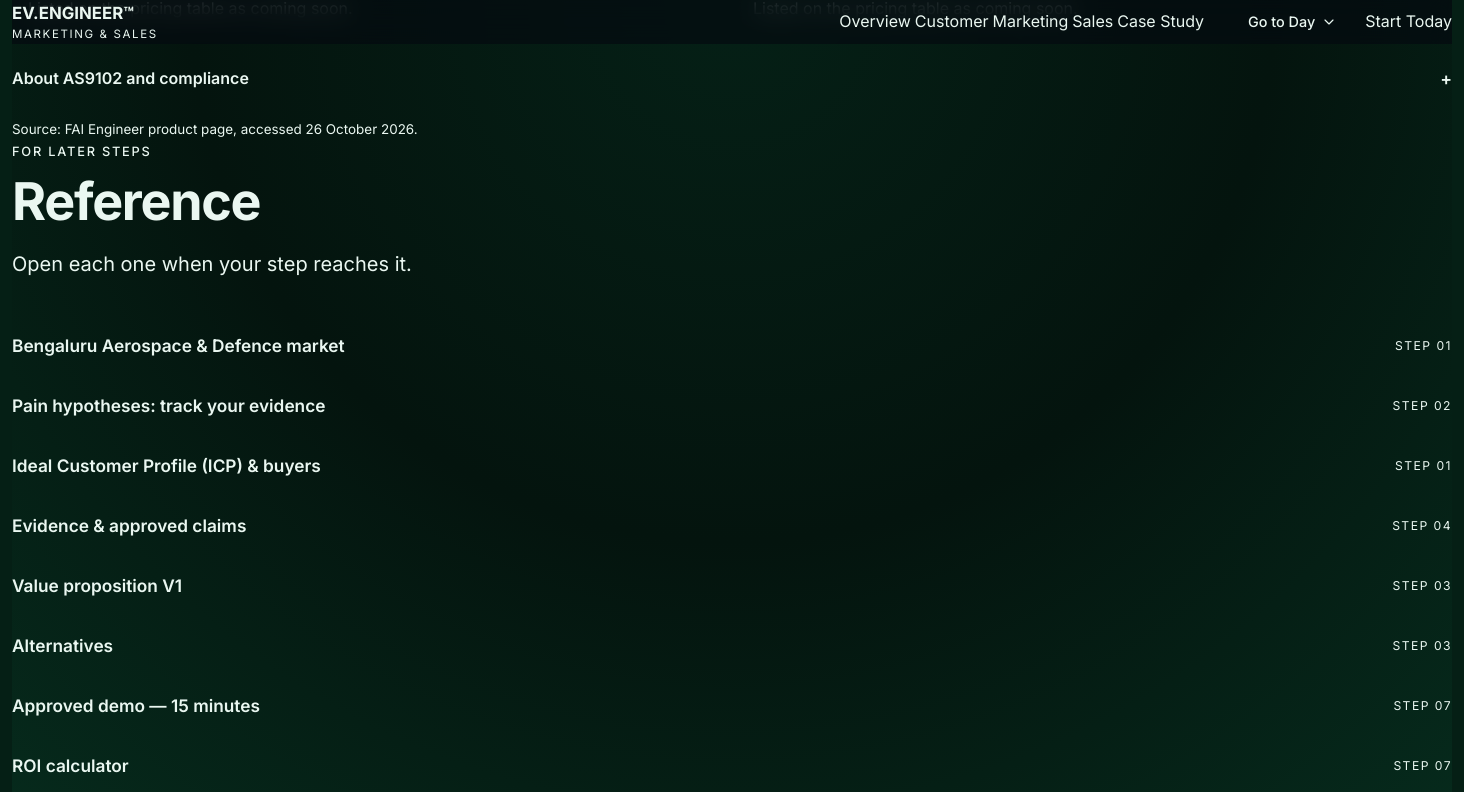
it: Case Study page › lets pain hypotheses move only with the user's own evidence
This screenshot has width=1464, height=792.
(page scrolled)
Click the text "Pain hypotheses: track your evidence": (169, 406) left=12, top=392, right=325, bottom=420
(page scrolled)
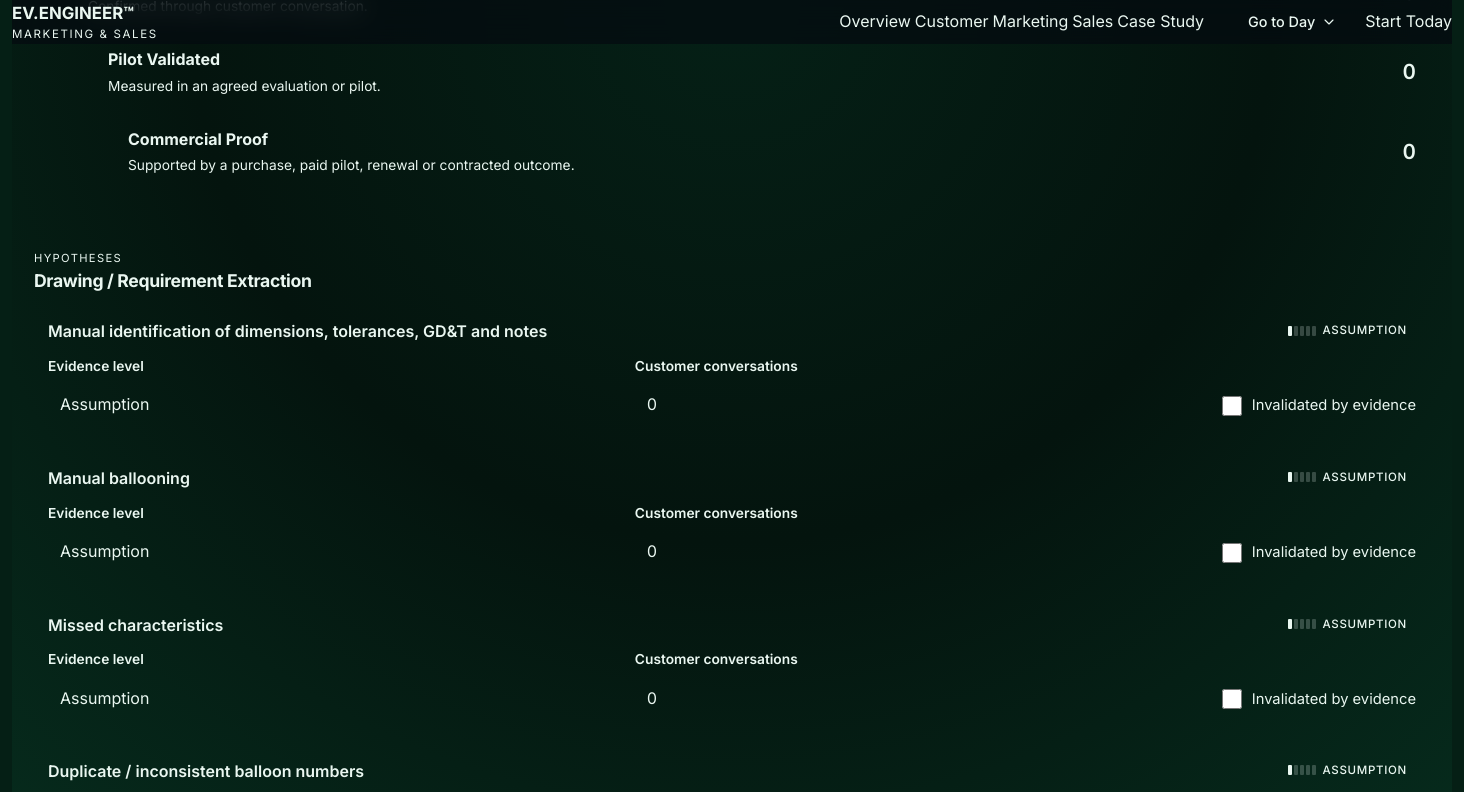
Select "Customer Validated" in the 1st dropdown labelled "Evidence level": (337, 405) left=48, top=382, right=627, bottom=428
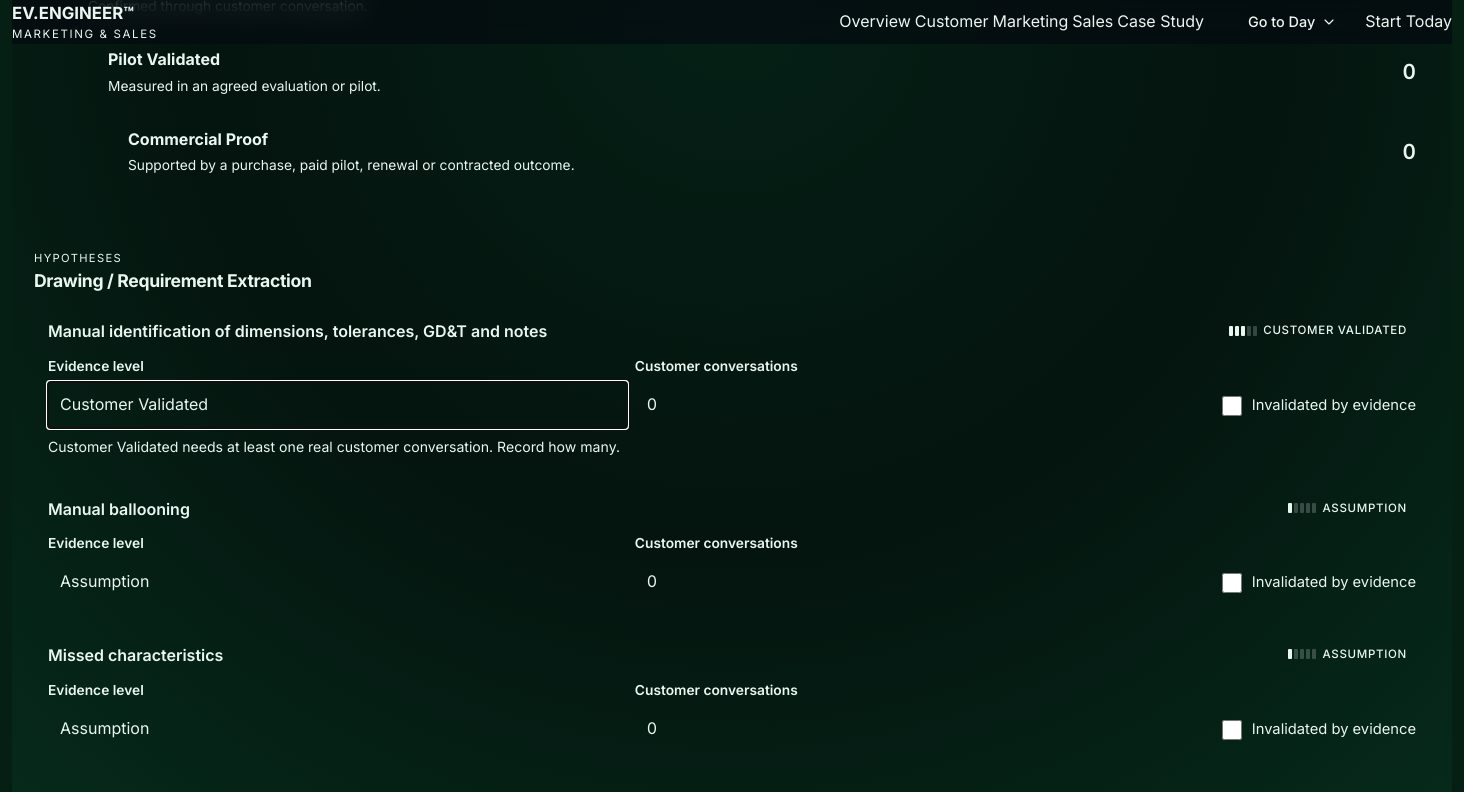
Expected: the text "Customer Validated needs at least one real customer conversation" is shown, left=48, top=438, right=620, bottom=455
